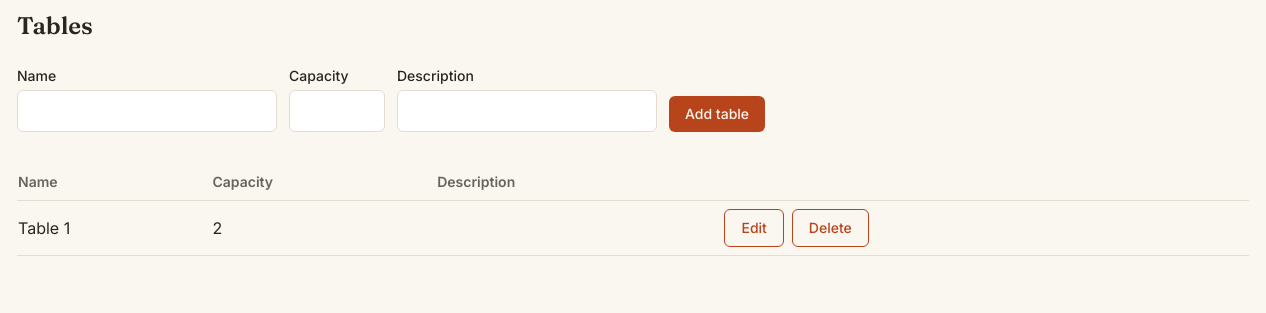
Test: AdminTables › shows a validation error when creating a table fails
Expected: the text "Table 1" is shown, x1=17 y1=200 x2=212 y2=256
Type "Table 1" into the field labelled "Name".
click(147, 111); type("Table 1")  # box x1=17 y1=90 x2=277 y2=132
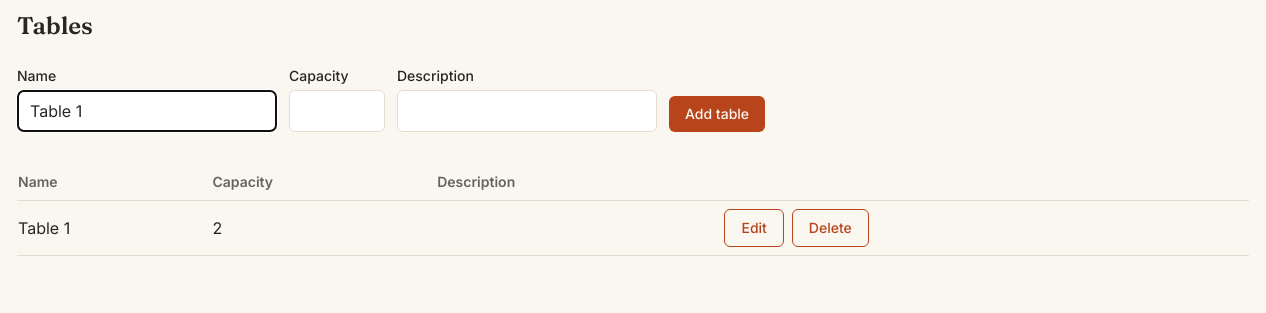
Type "4" into the number field labelled "Capacity".
click(337, 111); type("4")  # box x1=289 y1=90 x2=385 y2=132
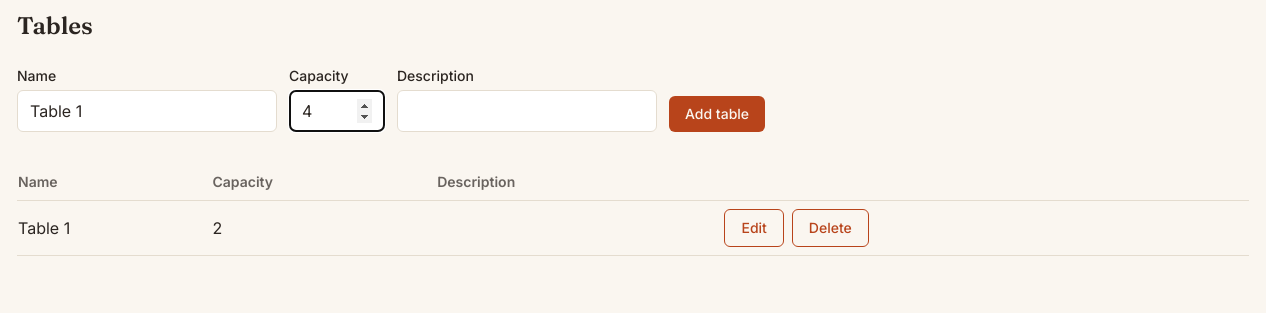
Click the button "Add table".
click(717, 114)  # box x1=669 y1=96 x2=765 y2=132
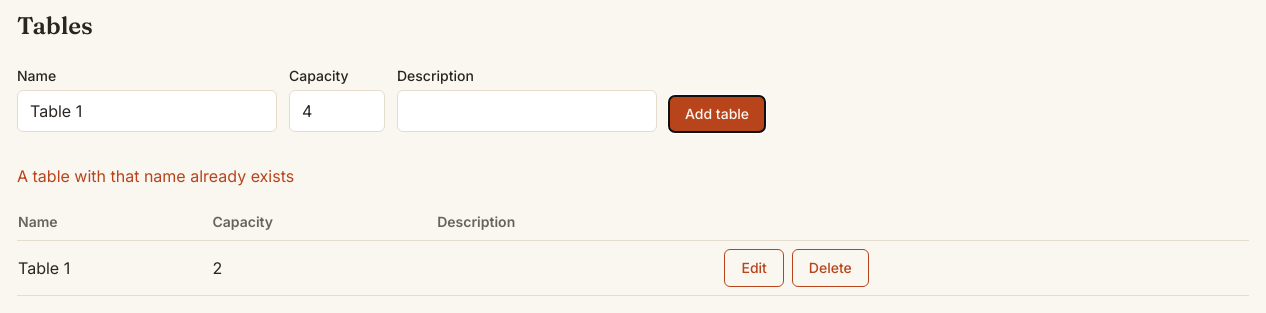
Expected: the text "A table with that name already exists" is shown, x1=17 y1=166 x2=294 y2=186
